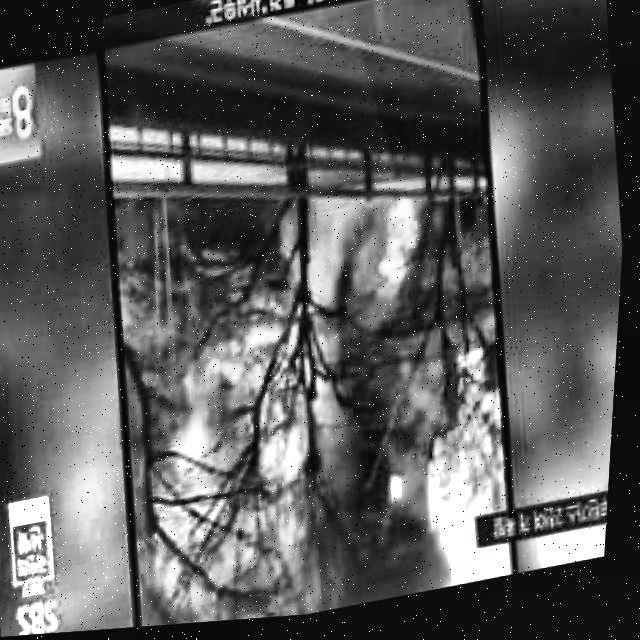Fire: (338, 188, 439, 315)
Smoke: (198, 314, 479, 627)
